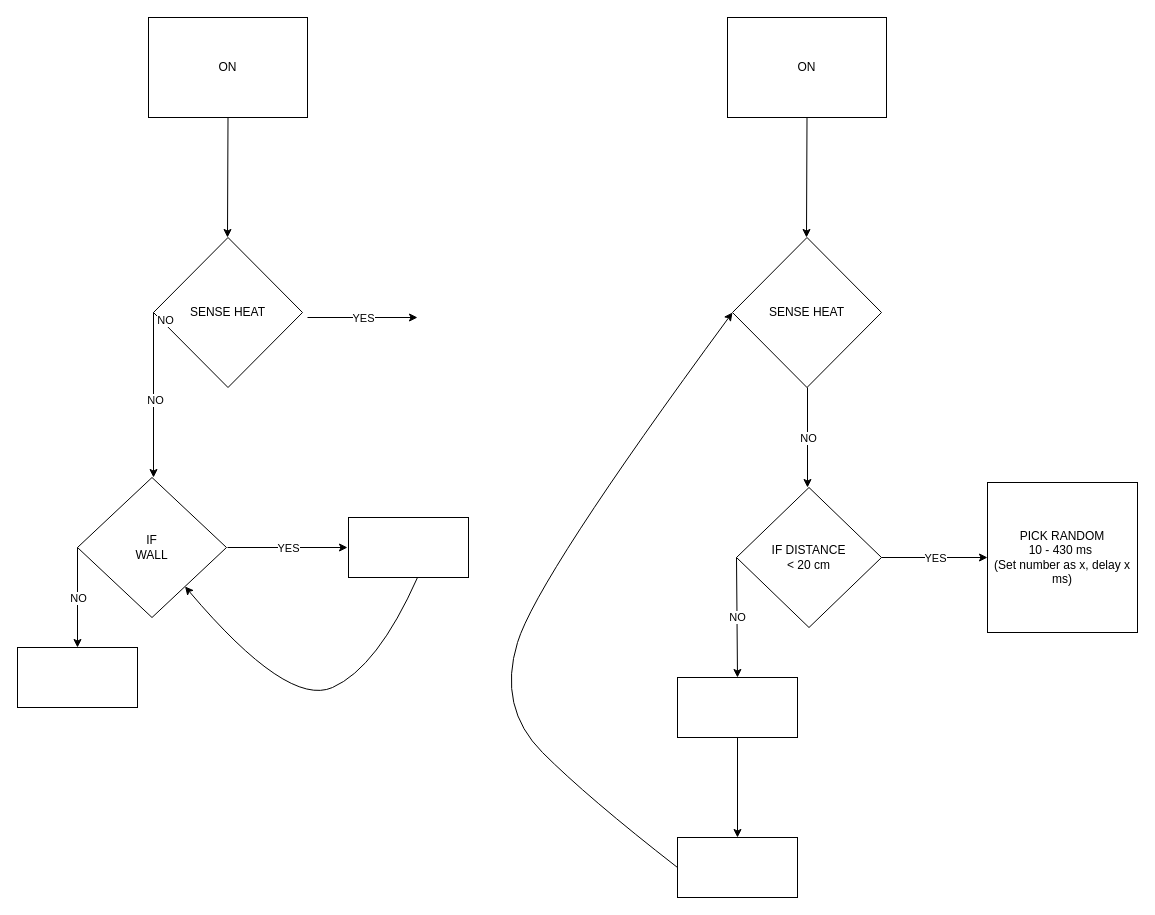
Image size: 1155x915. Some labels were removed from this diagram. Here are the shapes that lost their labels. From the top down, the centre of each, then its label:
the point at 408,547: TURN (30 - 260) degree
the point at 77,677: MOVE FORWARD
the point at 737,707: CAR FORWARD
the point at 737,867: DELAY 2000 ms
